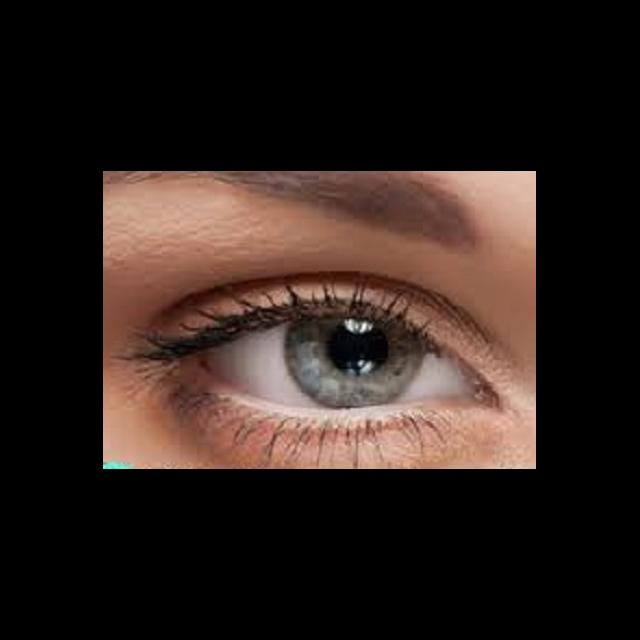eye: (192, 316, 479, 412)
iris: (286, 319, 425, 408)
